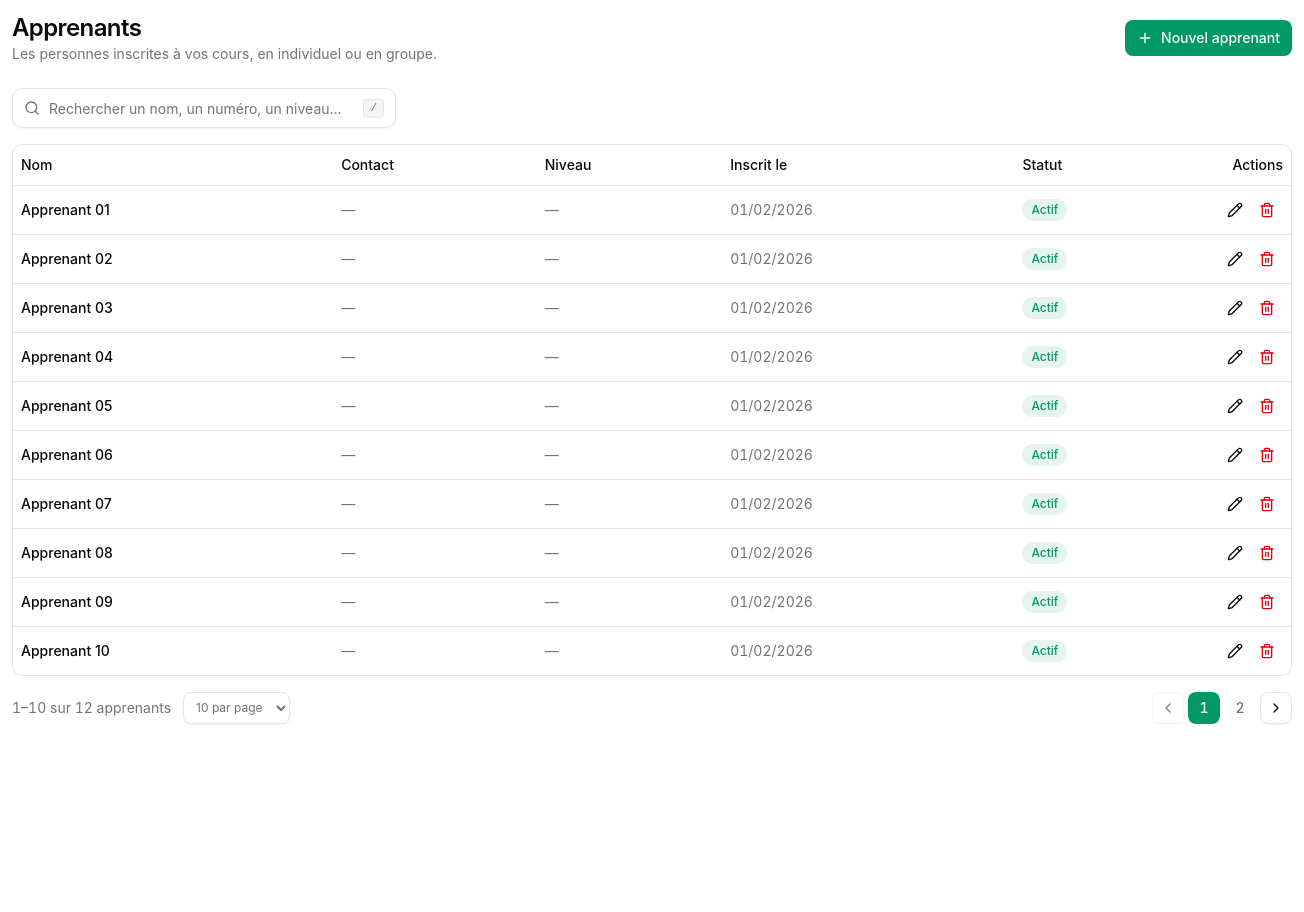
Test: ApprenantsPage › recherche et pagination › affiche dix lignes par page, et le reste sur la suivante
The width and height of the screenshot is (1304, 912).
Expected: the text "1–10 sur 12 apprenants" is shown, [12, 698, 171, 718]
Expected: the text "Apprenant 11" is not shown
Click the button named "Page suivante": click(1276, 708) [1260, 692, 1292, 724]
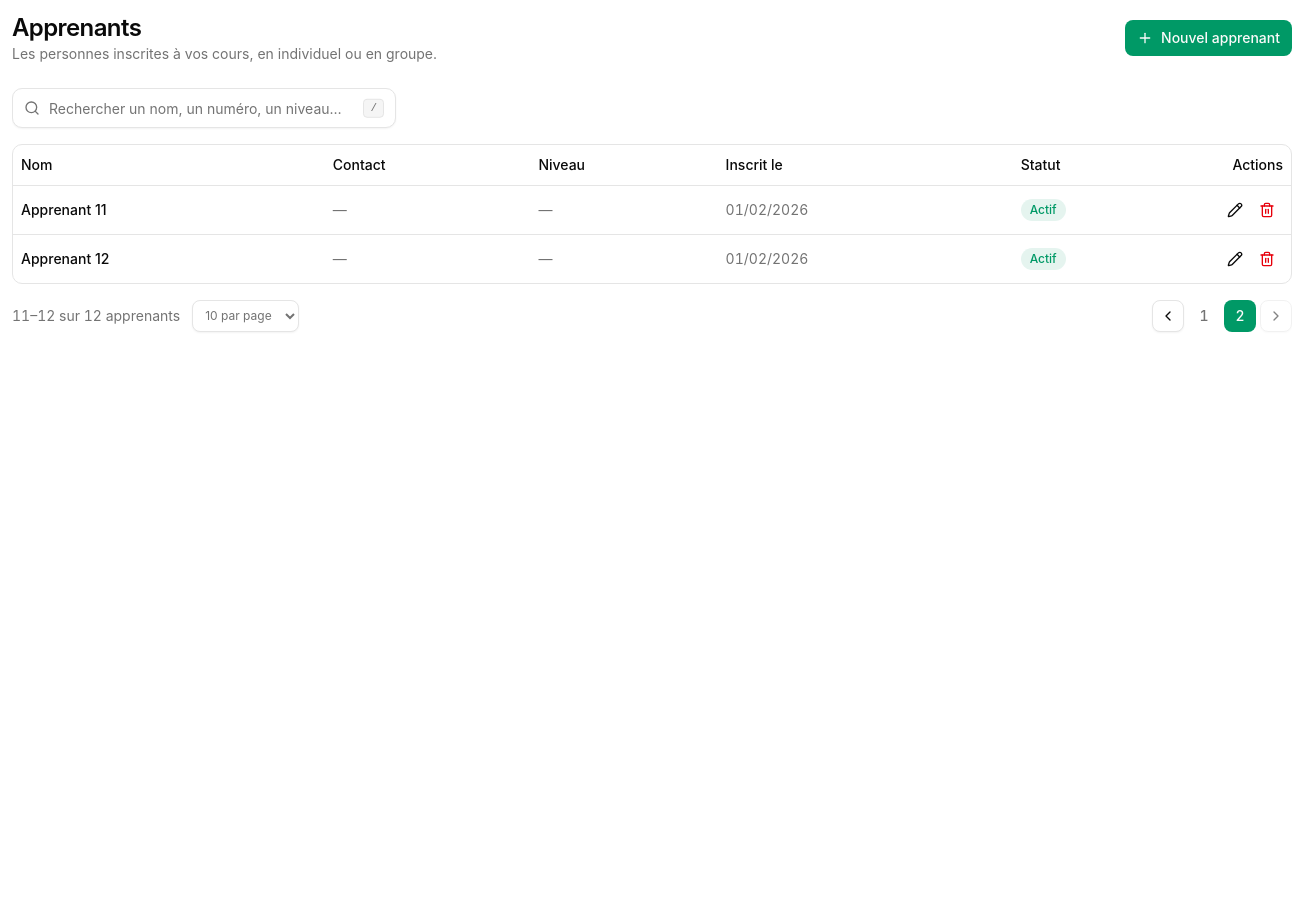
Expected: the text "11–12 sur 12 apprenants" is shown, [12, 306, 180, 326]
Expected: the number of buttons "Apprenant 12" is 2
Expected: the button "Apprenant 01" is gone
